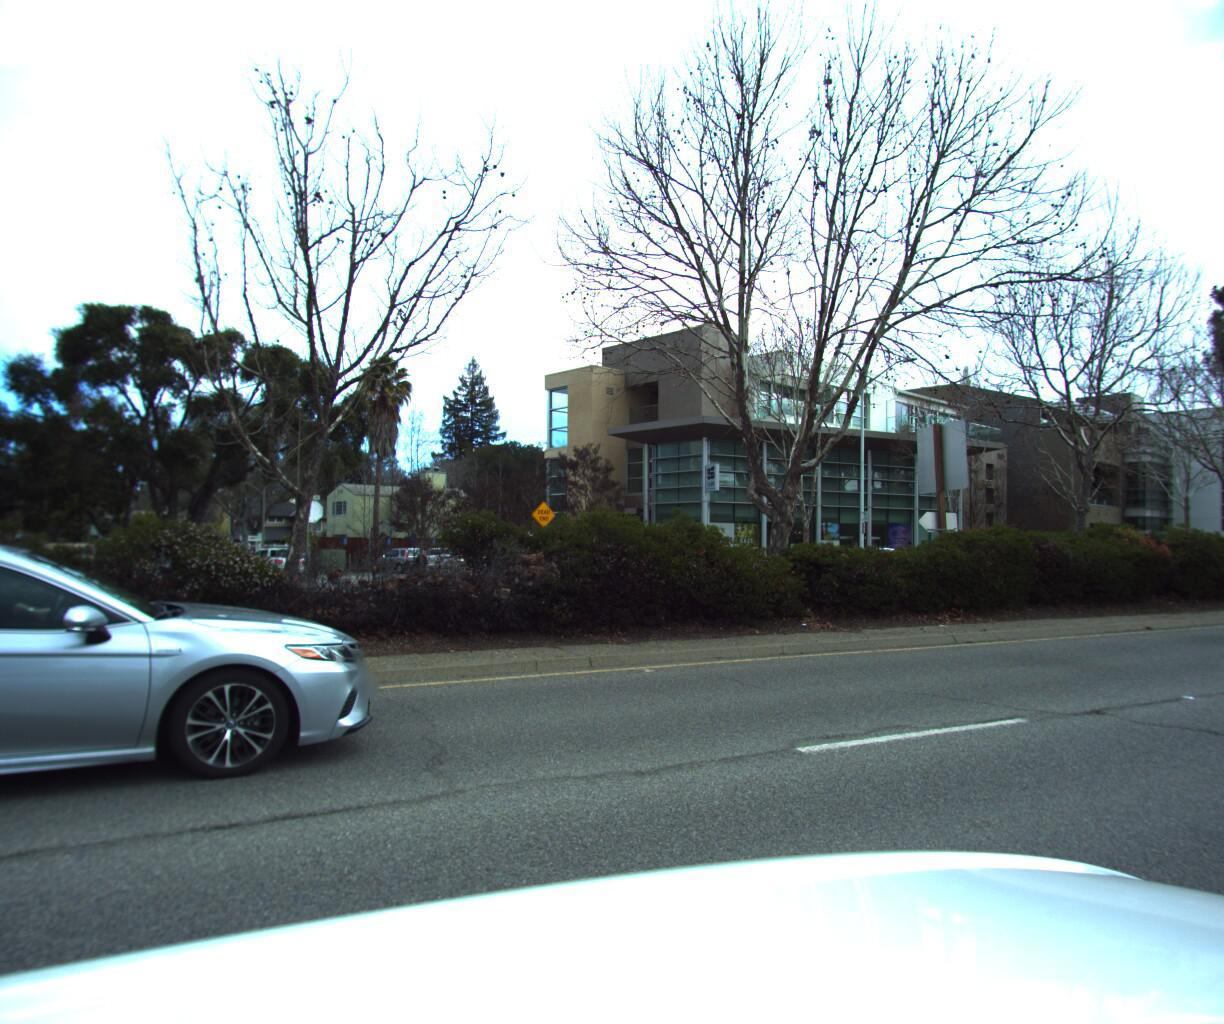car: (0, 529, 400, 915), (804, 543, 918, 587)
